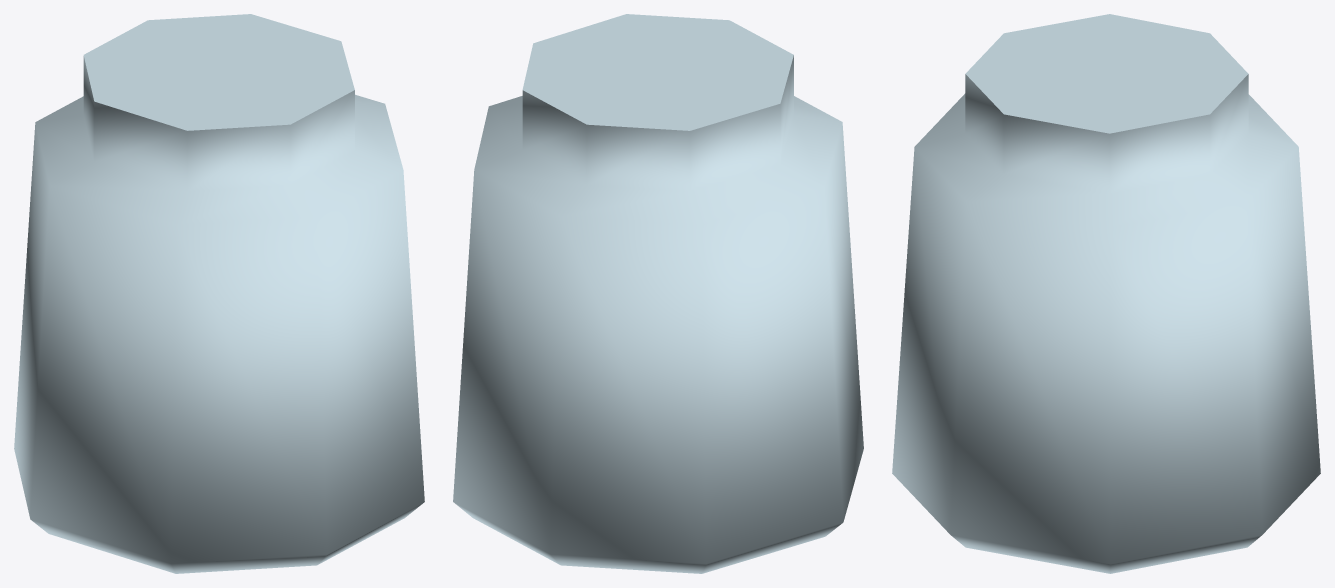
File: pepperInside.fbx
3 renders of one model, left to right at view 1: azimuth 30°, elevation 25°; view 2: azimuth 150°, elevation 25°; view 3: azimuth 270°, elevation 25°, orthographic.
Parts seen in each view (by area): view 1: Pepper; view 2: Pepper; view 3: Pepper.
Part boxes in pixels (x1,y1,x2,y2): Pepper: [14, 14, 424, 573]; Pepper: [453, 14, 863, 573]; Pepper: [892, 14, 1320, 573].
Size of the model in its own units: 181 by 195 by 181.
